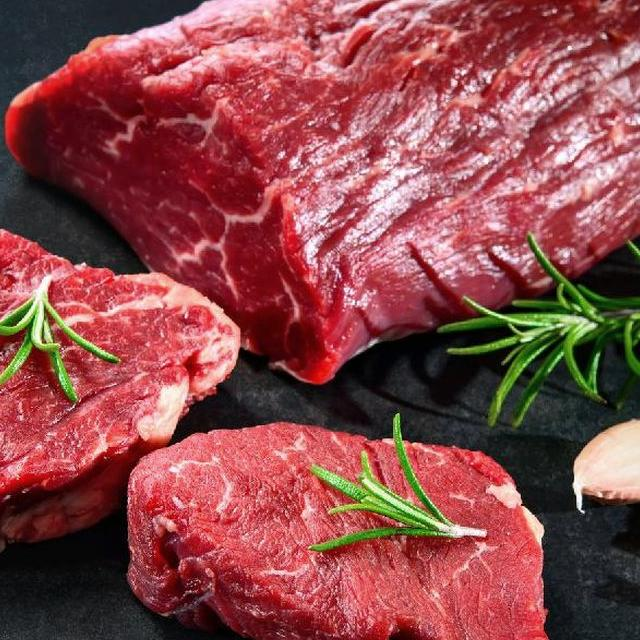beef: (0, 0, 640, 408), (95, 387, 623, 640), (0, 225, 276, 561)
